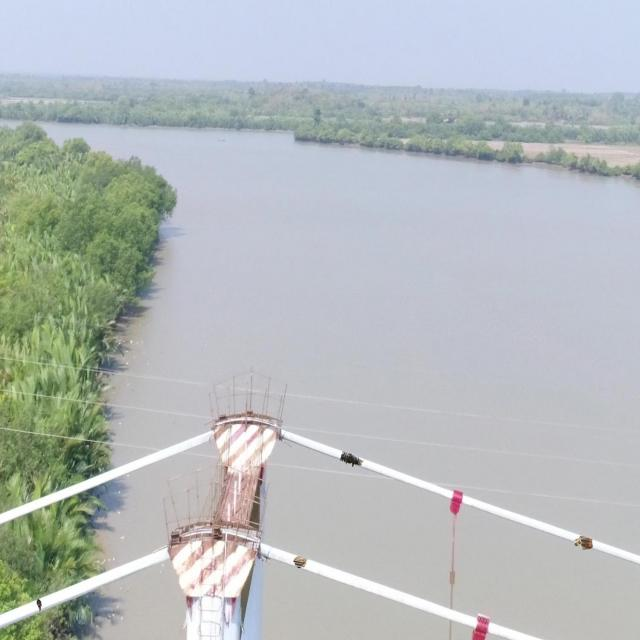corrosion: (340, 451, 364, 468), (574, 534, 593, 552), (292, 556, 308, 569), (36, 599, 42, 612)
